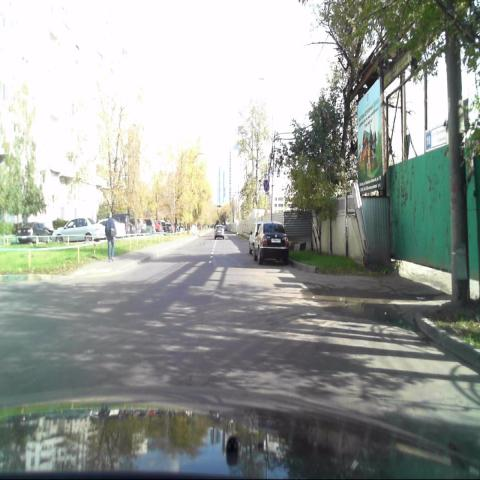3_27: (262, 178, 270, 193)
